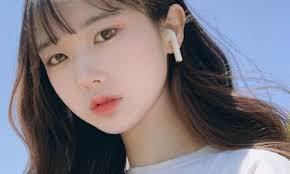earphone: (158, 25, 186, 63)
